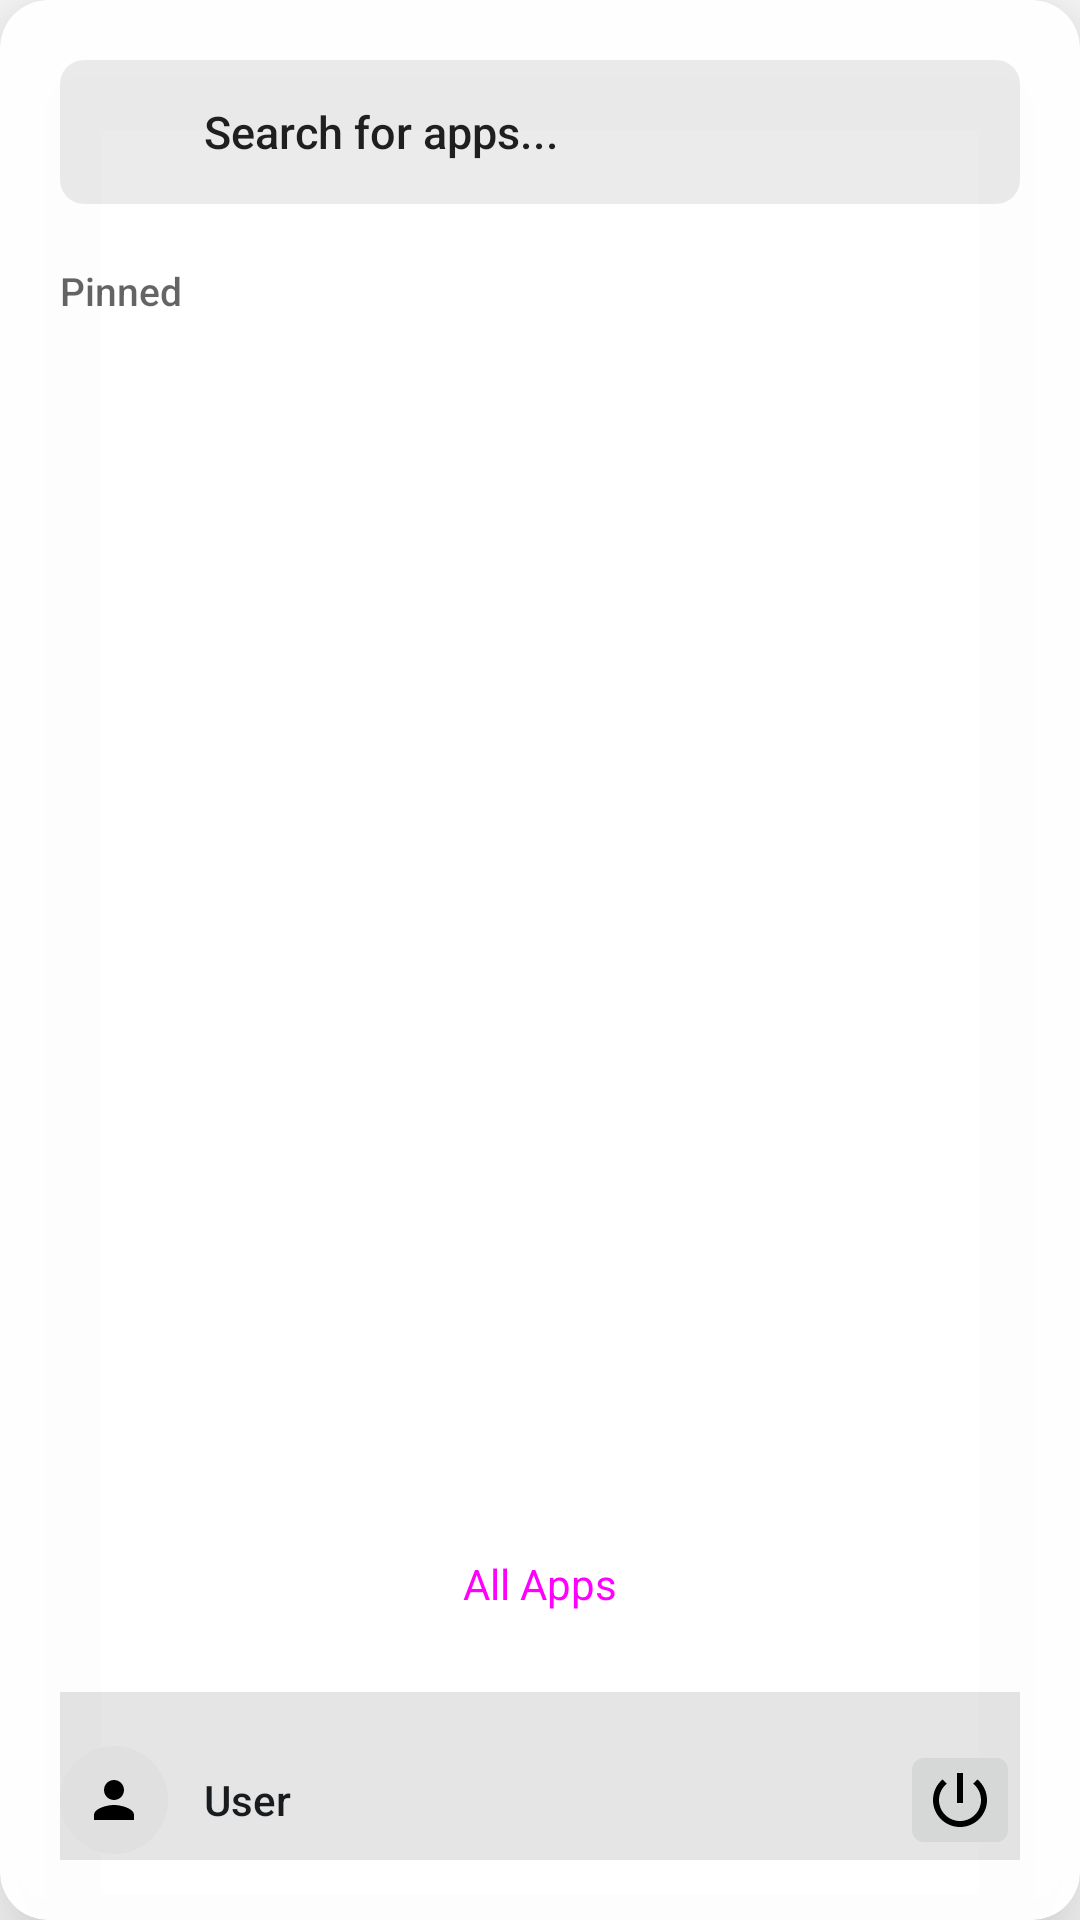

Icons on this 1080px×1920px Android screen, each with its box as (x1,y1,x2,y2):
Power: (912,1758,1008,1842)
